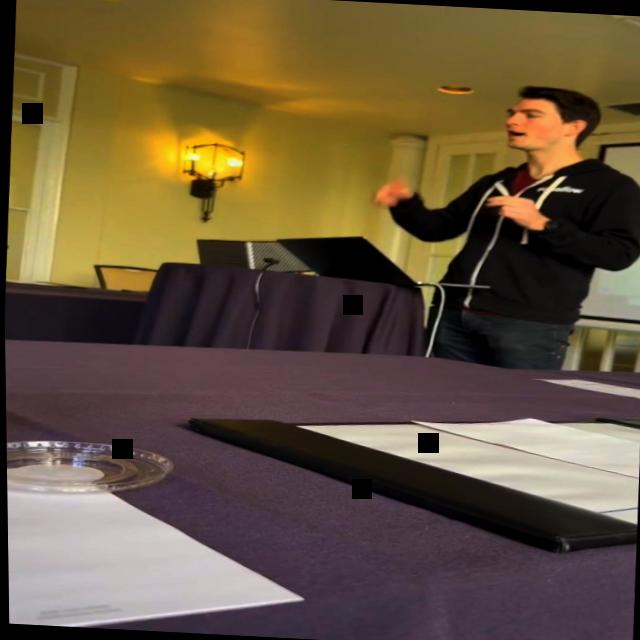NO-Mask: (496, 88, 608, 158)
